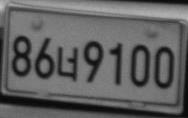0: (153, 45, 175, 89), (130, 44, 150, 88)
1: (106, 43, 127, 85)
6: (34, 37, 55, 79)
8: (11, 34, 32, 77)
9: (82, 40, 104, 83)
너: (57, 46, 78, 81)
